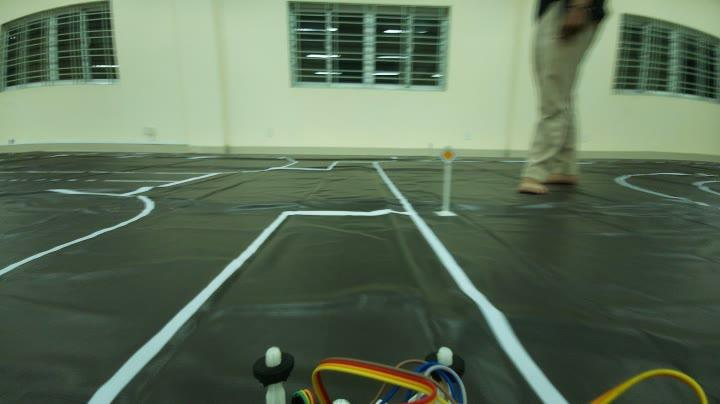priority: (435, 142, 458, 164)
